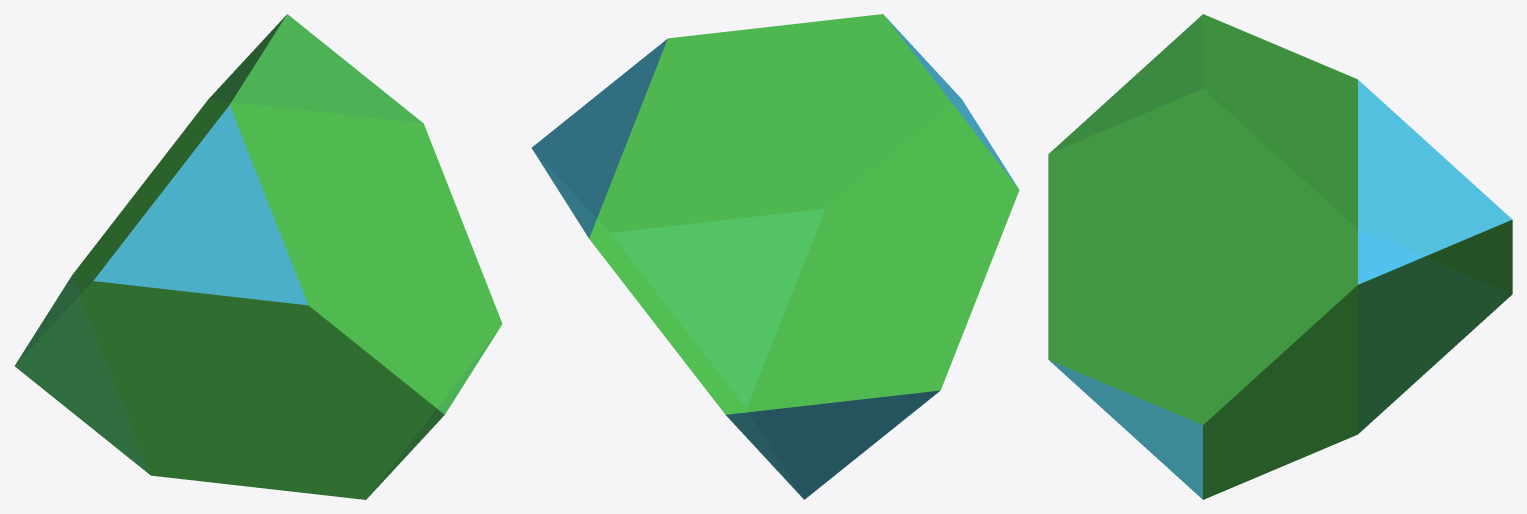
Rendered from TruncatedTetrahedron.obj.
The picture shows the model from 3 angles, left to right: view 1: azimuth 30°, elevation 25°; view 2: azimuth 150°, elevation 25°; view 3: azimuth 270°, elevation 25°; orthographic projection.
Bounding box in the file's own units: 2.12 × 2.12 × 2.12.
